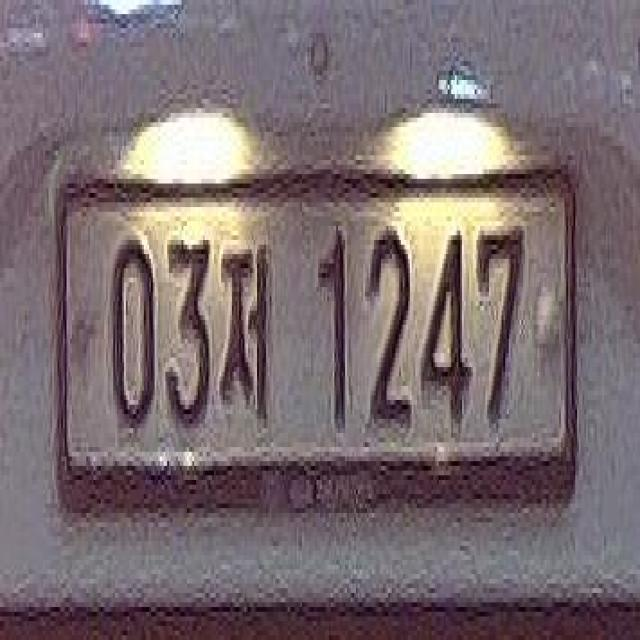illegal_plate: (63, 159, 583, 531)
